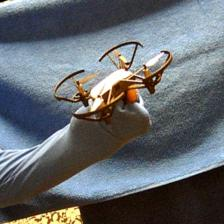drone: (55, 40, 174, 124)
